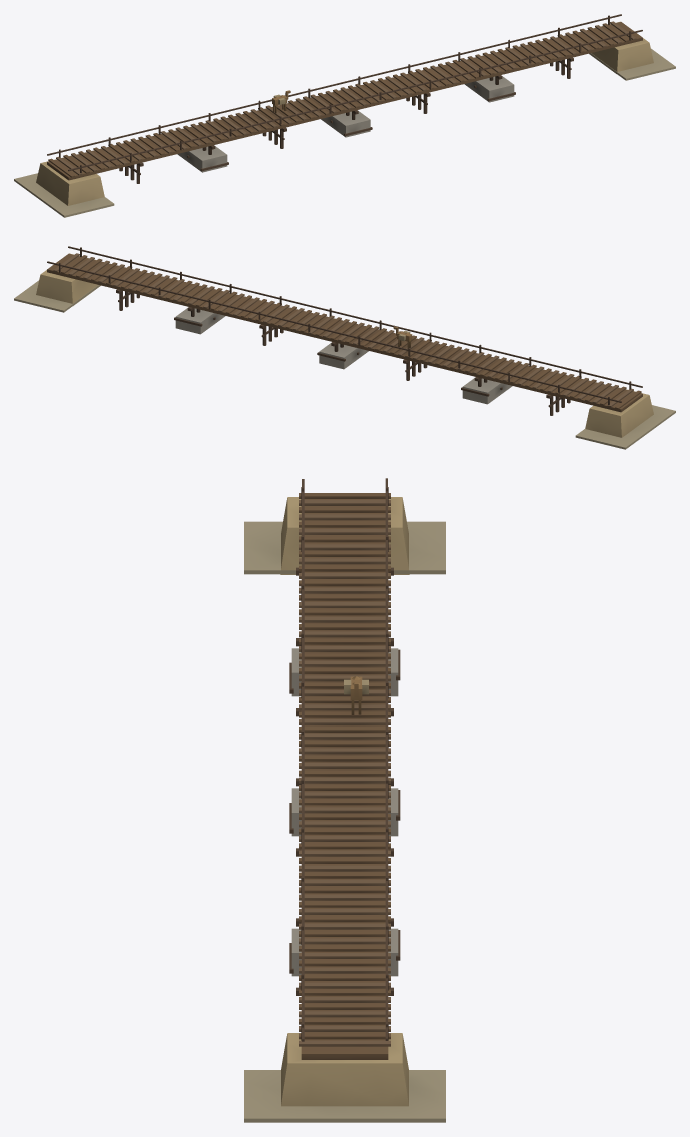
The model's file is dang-bridge.glb.
3 views of the same model, one above another, from view 1: azimuth 30°, elevation 25°; view 2: azimuth 150°, elevation 25°; view 3: azimuth 270°, elevation 25° (orthographic). The views are drawn at different scales.
Parts seen in each view (by area): view 1: p2_deck, p0_abutments, p1_trestles; view 2: p2_deck, p0_abutments, p1_trestles; view 3: p2_deck, p0_abutments.
Part boxes in pixels (box(x1,y1,x2,y2)): p2_deck: box(47, 14, 642, 180); p0_abutments: box(14, 21, 675, 217); p1_trestles: box(119, 57, 573, 183); p2_deck: box(47, 246, 642, 412); p0_abutments: box(14, 253, 675, 449); p1_trestles: box(116, 289, 570, 415); p2_deck: box(299, 478, 390, 1059); p0_abutments: box(244, 497, 445, 1122).
Bounding box in the file's own units: 98 × 6.89 × 14.
